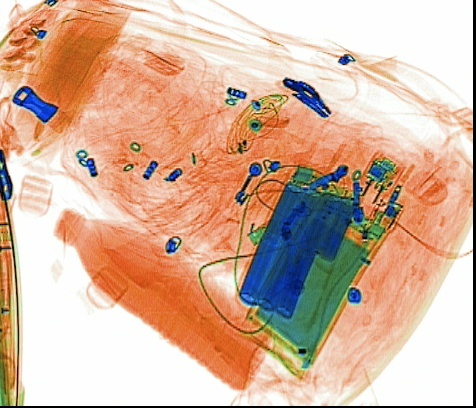powerbank: (239, 168, 360, 322)
